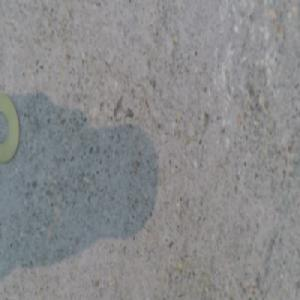Washer: (0, 95, 20, 163)
